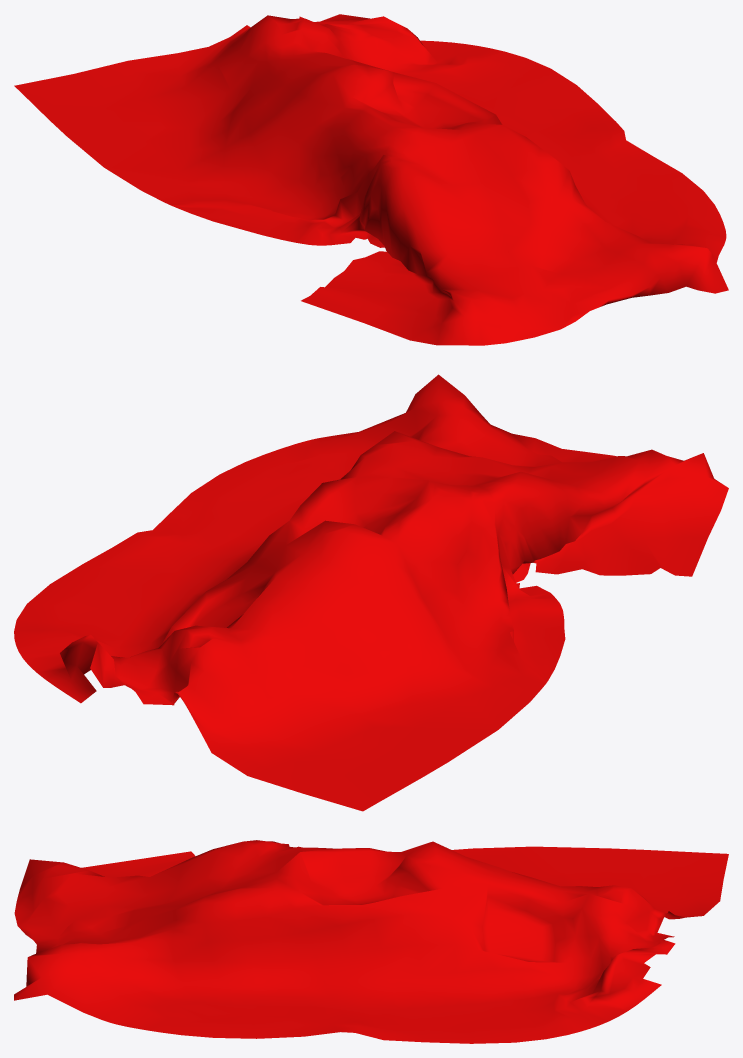
The model's file is Corps_Low_ouvert_02.fbx.
The picture shows the model from 3 angles, top to bottom: view 1: azimuth 30°, elevation 25°; view 2: azimuth 150°, elevation 25°; view 3: azimuth 270°, elevation 25°; orthographic projection. The views are drawn at different scales.
Visible parts, largest first — view 1: Corps_low_ouvert_02; view 2: Corps_low_ouvert_02; view 3: Corps_low_ouvert_02.
Boxes of the visible parts, box(x1,y1,x2,y2) form: Corps_low_ouvert_02: box(14, 14, 728, 345); Corps_low_ouvert_02: box(14, 374, 728, 811); Corps_low_ouvert_02: box(14, 840, 728, 1043).
Bounding box in the file's own units: 1.45 × 0.2974 × 2.22.
